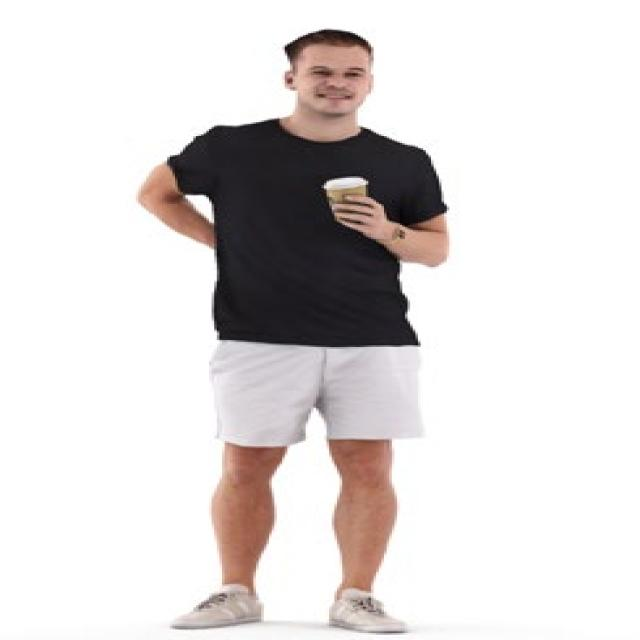standing: (134, 29, 462, 637)
